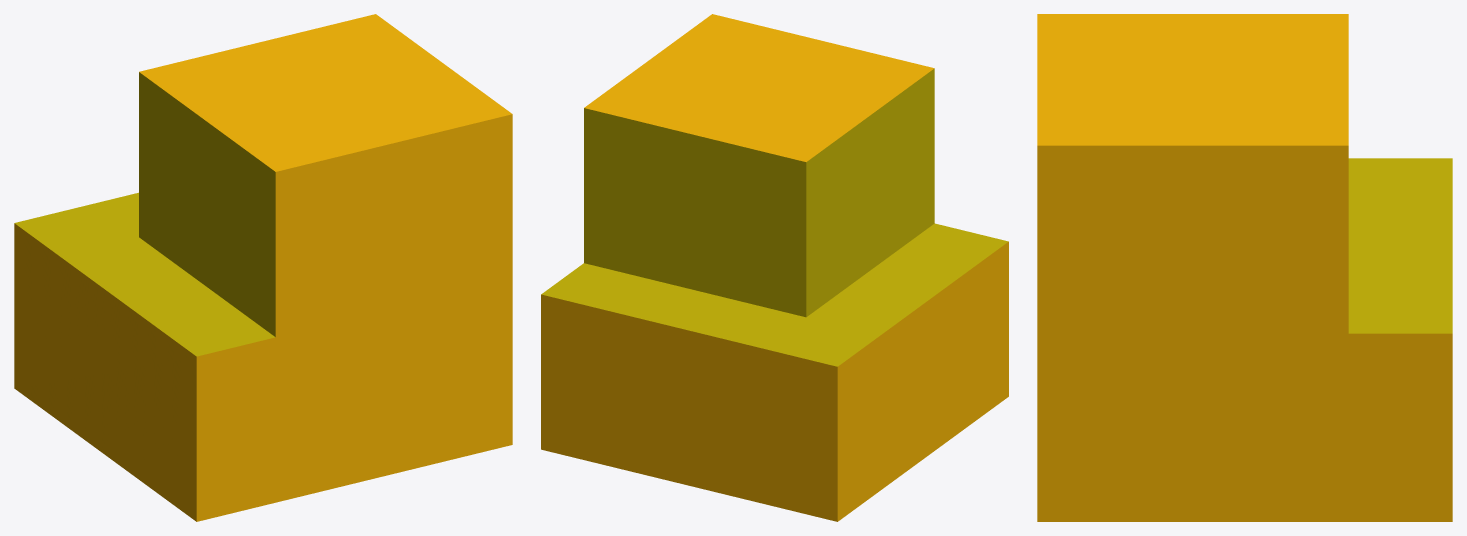
Rendered from block_slitted_corner_z.dae.
3 views of the same model, side by side, from view 1: azimuth 30°, elevation 25°; view 2: azimuth 150°, elevation 25°; view 3: azimuth 270°, elevation 25° (orthographic). The views are drawn at different scales.
Parts seen in each view (by area): view 1: Cube; view 2: Cube; view 3: Cube.
Boxes of the visible parts, bbox=[...] form: Cube: bbox=[14, 14, 512, 521]; Cube: bbox=[541, 14, 1008, 521]; Cube: bbox=[1037, 14, 1452, 521].
Size of the model in its own units: 0.25 by 0.25 by 0.25.
